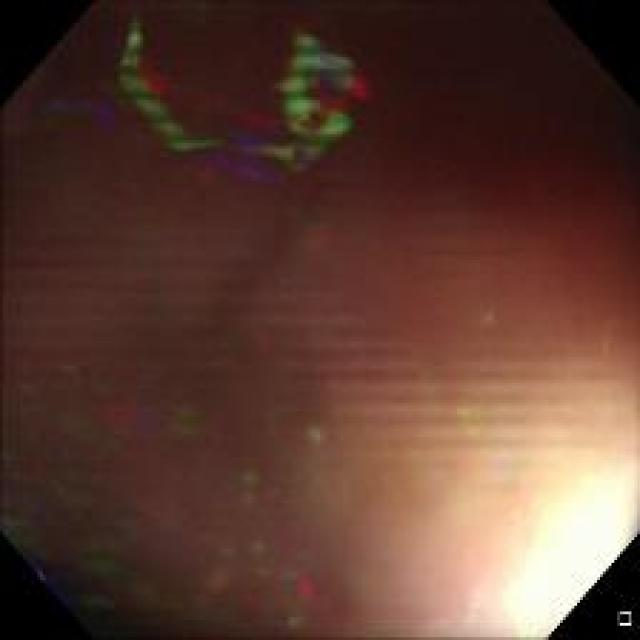color misalignment: (11, 6, 625, 624), (21, 336, 351, 624), (110, 22, 376, 185)
saturation: (490, 488, 635, 629)
